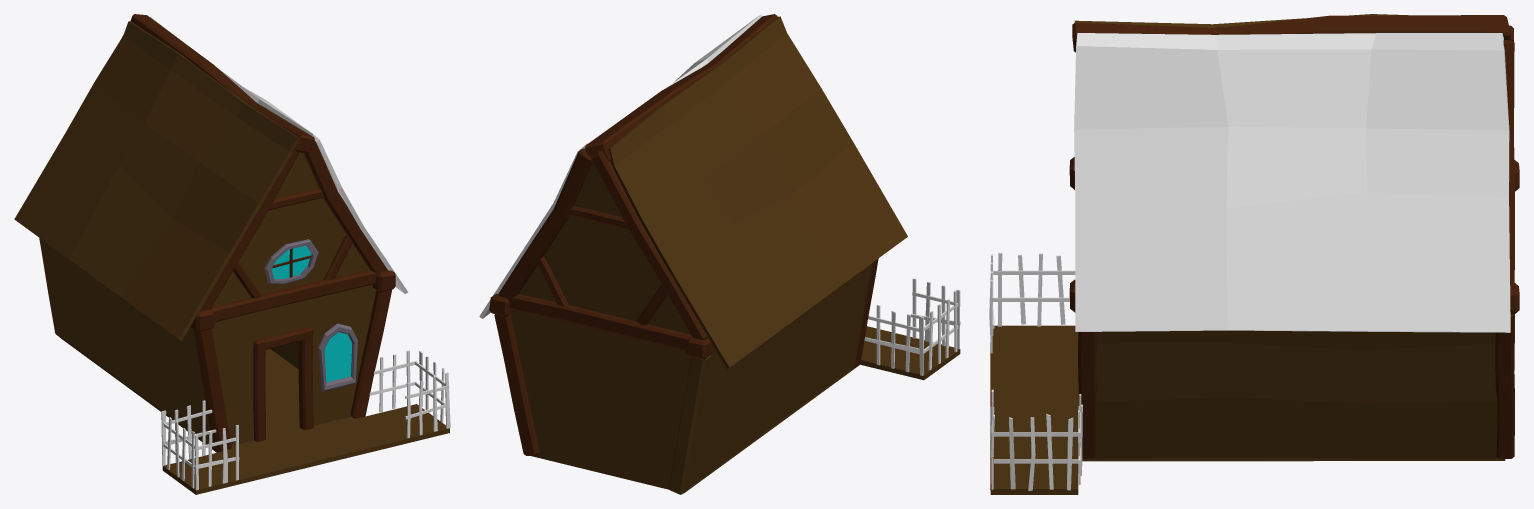
File: cabin in the woods 1.fbx
3 renders of one model, left to right at view 1: azimuth 30°, elevation 25°; view 2: azimuth 150°, elevation 25°; view 3: azimuth 270°, elevation 25°, orthographic. The views are drawn at different scales.
Parts seen in each view (by area): view 1: roof, front, Plane.016, floor, Cube.024, Cube.038, Cube.029, Cube.023, cabin wood beams, Cube.030, Plane.012, Cube.036 (+15 smaller); view 2: roof, back, Plane.016, floor, Cube.041, Cube.043, Cube.042, Cube.040, Cube.038, Cube.039, Plane.013, Plane.012 (+5 smaller); view 3: Plane.012, cabin, floor, Cube.038, Cube.039, cabin wood beams, Plane.033, Plane.015, Cube.042, roof.
Part boxes in pixels (bbox=[...]): roof: bbox=[14, 21, 299, 340]; front: bbox=[211, 152, 376, 445]; Plane.016: bbox=[45, 242, 213, 447]; floor: bbox=[59, 337, 449, 494]; Cube.024: bbox=[210, 269, 378, 322]; Cube.038: bbox=[130, 14, 314, 153]; Cube.029: bbox=[303, 140, 387, 272]; Cube.023: bbox=[193, 329, 231, 452]; cabin wood beams: bbox=[350, 289, 392, 418]; Cube.030: bbox=[199, 149, 299, 310]; Plane.012: bbox=[150, 17, 408, 293]; Cube.036: bbox=[298, 326, 313, 429]; roof: bbox=[608, 16, 907, 368]; back: bbox=[510, 165, 690, 485]; Plane.016: bbox=[688, 263, 872, 487]; floor: bbox=[531, 326, 960, 492]; Cube.041: bbox=[509, 294, 714, 354]; Cube.043: bbox=[591, 151, 708, 339]; Cube.042: bbox=[495, 148, 591, 317]; Cube.040: bbox=[668, 355, 710, 494]; Cube.038: bbox=[585, 14, 777, 165]; Cube.039: bbox=[494, 314, 539, 455]; Plane.013: bbox=[864, 304, 923, 375]; Plane.012: bbox=[479, 14, 761, 318]; Plane.012: bbox=[1074, 33, 1510, 332]; cabin: bbox=[1095, 330, 1497, 458]; floor: bbox=[990, 325, 1505, 494]; Cube.038: bbox=[1072, 15, 1510, 52]; Cube.039: bbox=[1495, 314, 1514, 458]; cabin wood beams: bbox=[1078, 332, 1097, 458]; Plane.033: bbox=[994, 414, 1079, 490]; Plane.015: bbox=[993, 252, 1075, 326]; Cube.042: bbox=[1503, 39, 1514, 314]; roof: bbox=[1074, 14, 1407, 27].
Size of the model in its own units: 394 by 447 by 534.
